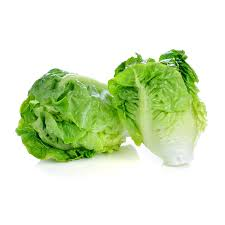lettuce: (14, 54, 211, 173)
